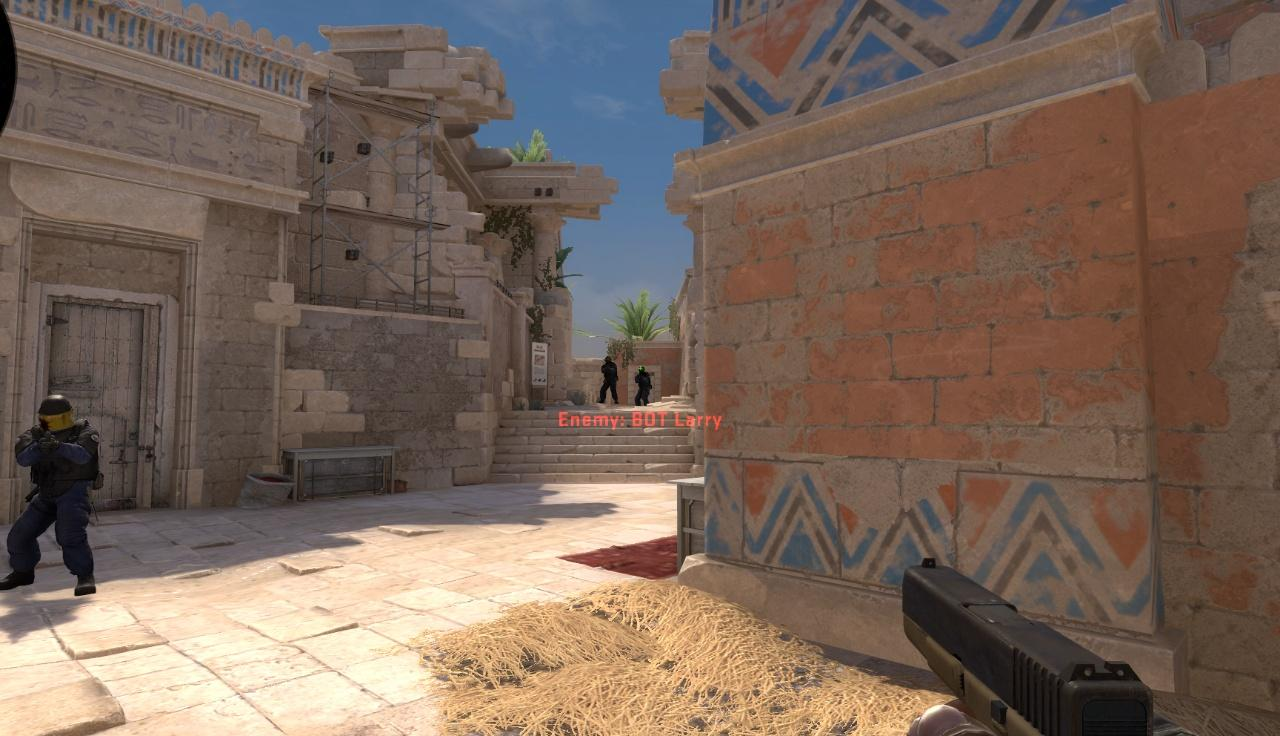ct: (0, 394, 101, 597), (598, 356, 619, 405), (633, 365, 653, 406)
cthead: (35, 395, 76, 432), (604, 356, 612, 364), (638, 366, 645, 375)
pistol: (900, 556, 1157, 731)
